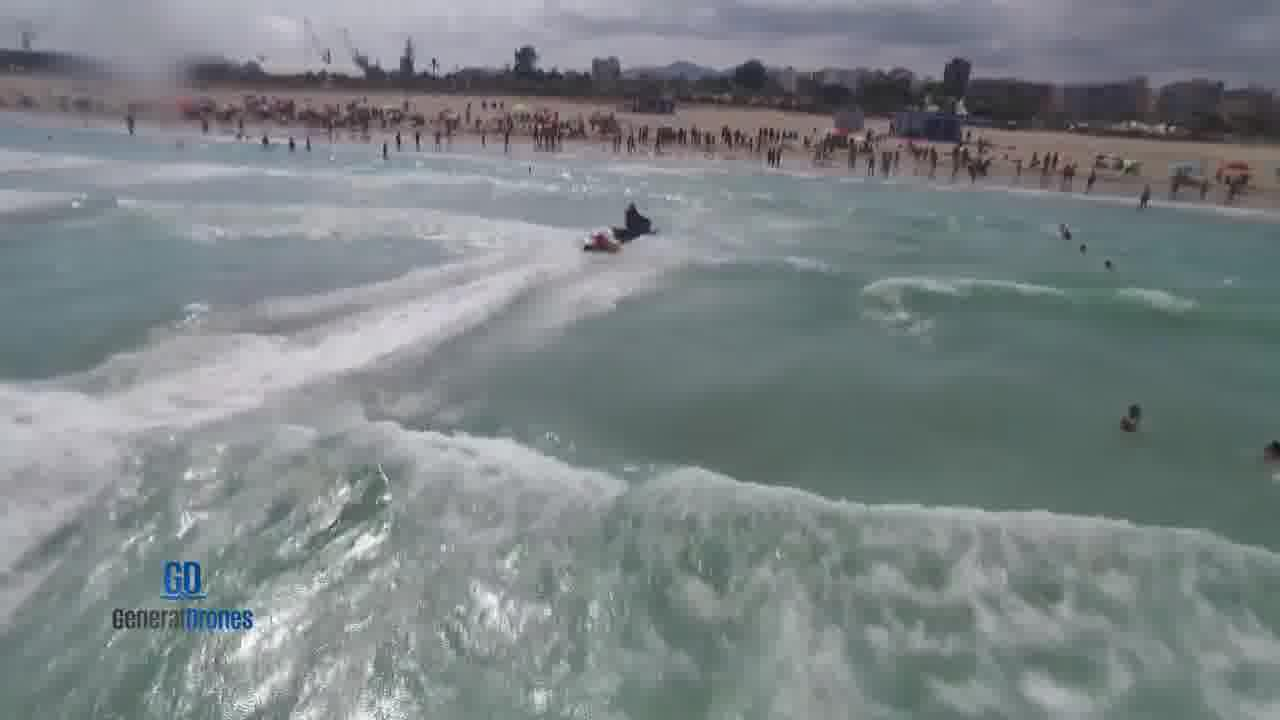swimmer: (1108, 389, 1151, 435), (1254, 426, 1280, 468)
